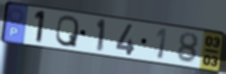1: (32, 10, 48, 46), (154, 27, 169, 62), (94, 18, 107, 53)
4: (115, 22, 138, 57)
8: (176, 32, 201, 64)
Q: (54, 14, 80, 49)
